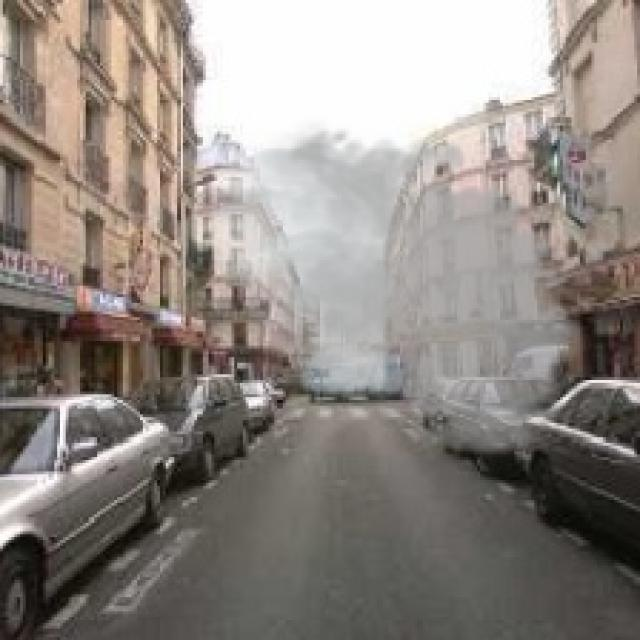smoke: (191, 117, 603, 463)
